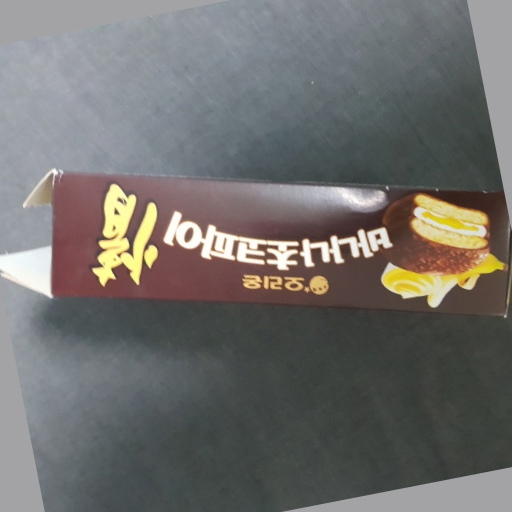Paper_0: (2, 161, 512, 325)
